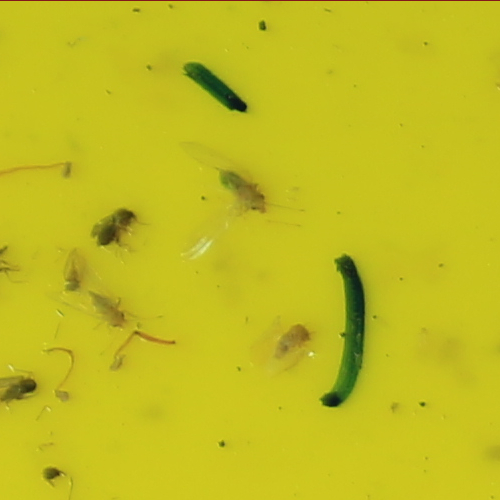Glycaspis: (221, 170, 269, 218), (90, 289, 129, 334)
Platyobria: (275, 320, 315, 359), (64, 259, 84, 296)
